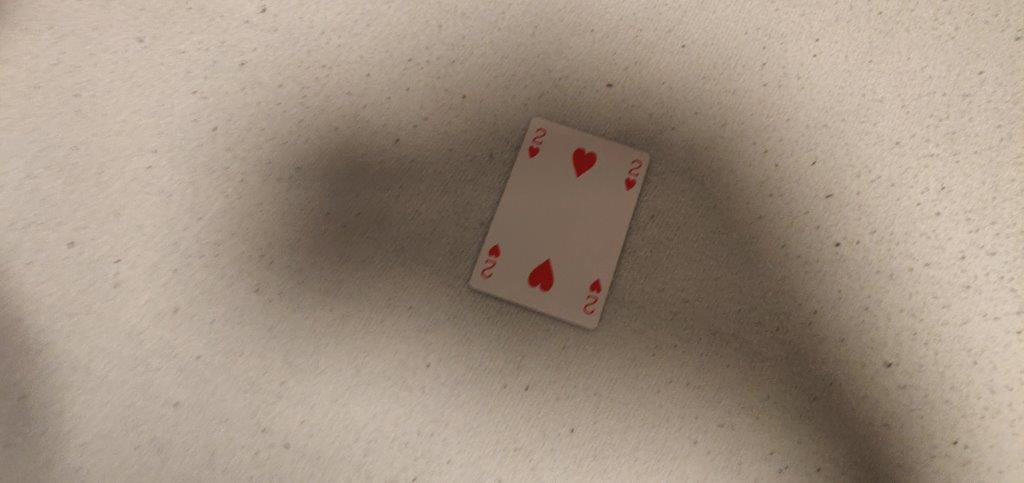2H: (523, 123, 548, 162), (620, 156, 643, 193)
